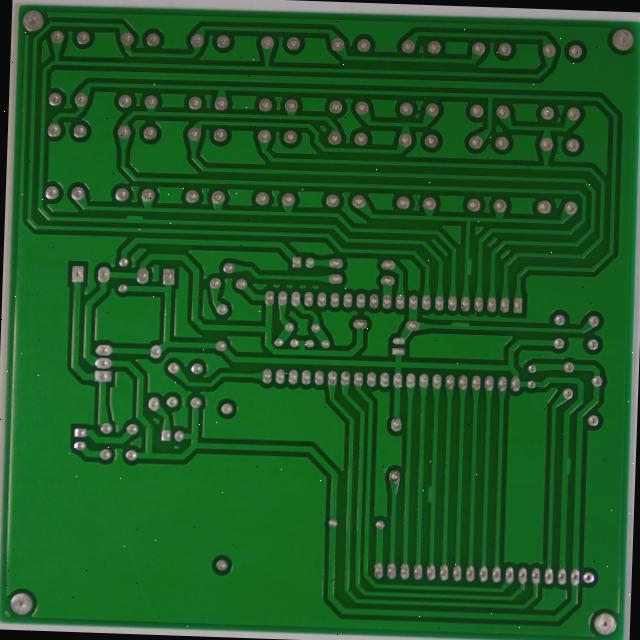spur: (509, 274, 542, 290), (139, 151, 168, 168), (483, 460, 501, 487), (527, 200, 542, 228)
